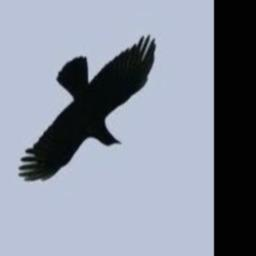Crow: (19, 35, 157, 182)
